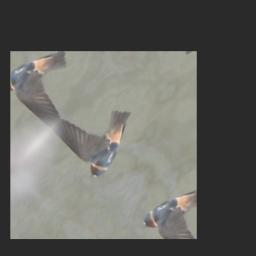Swallow: (46, 80, 150, 184)
